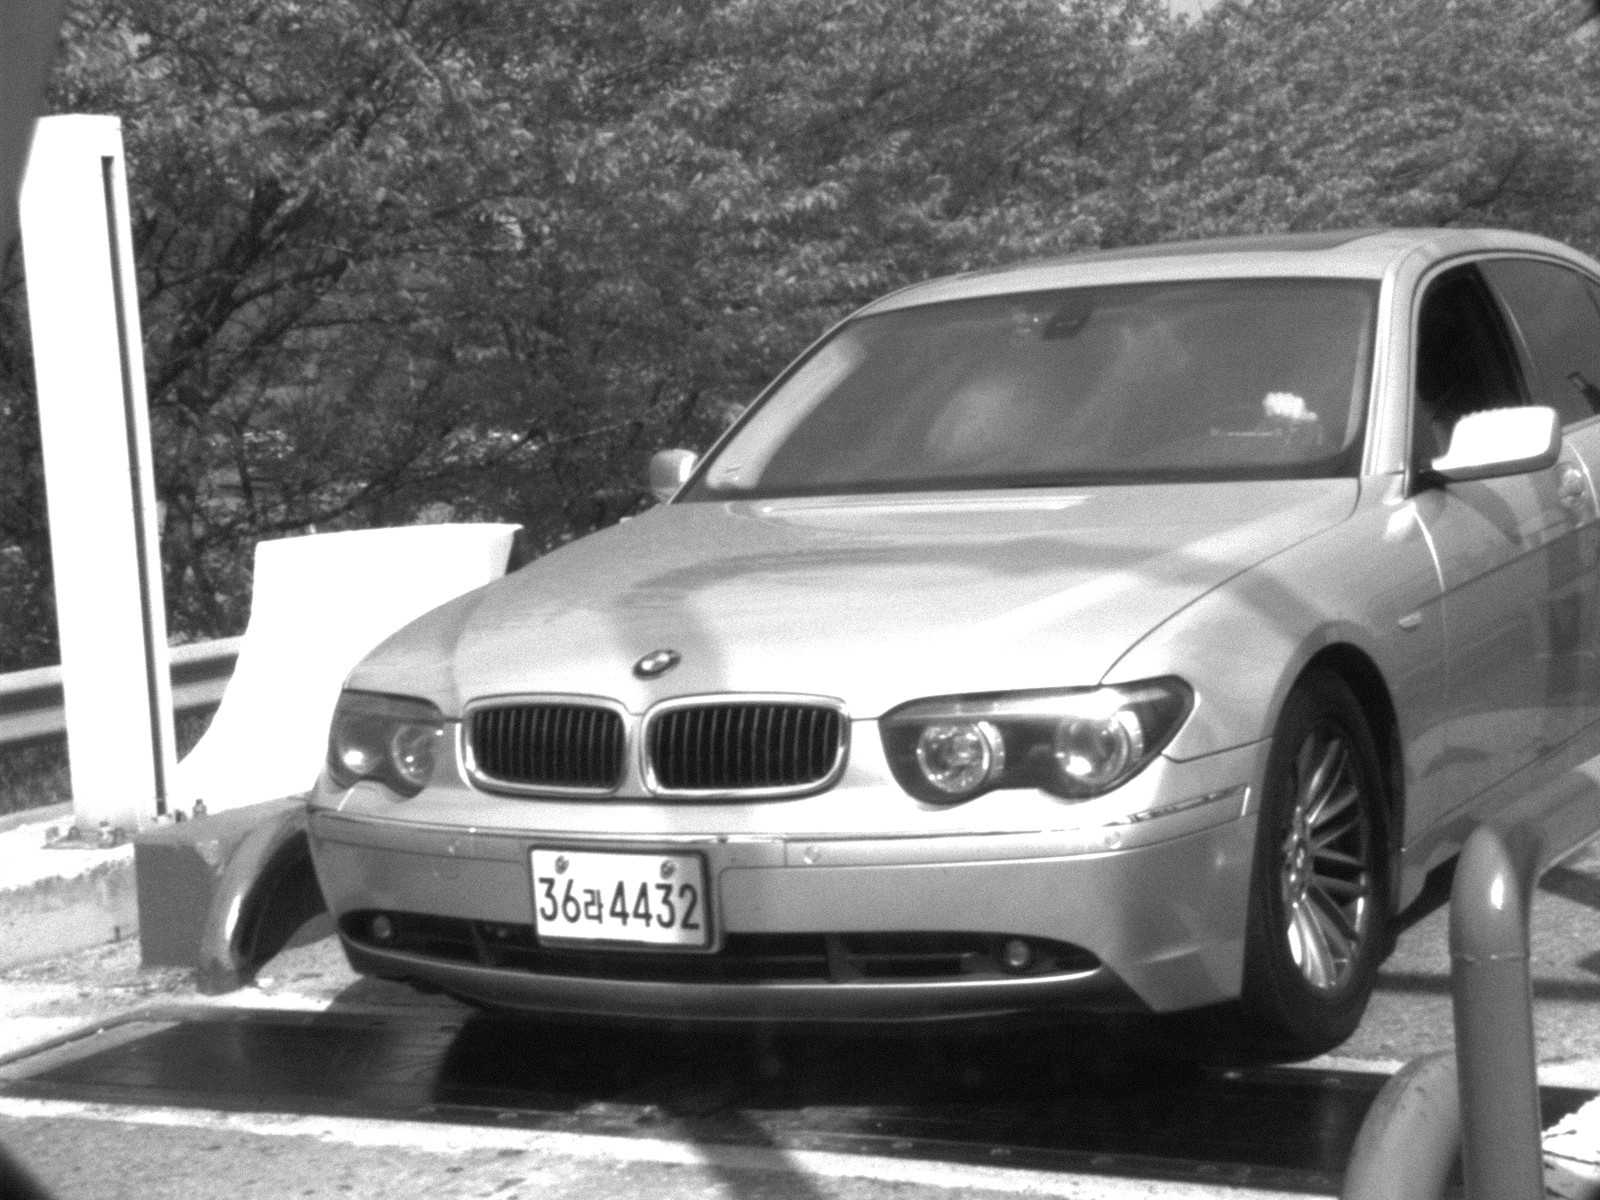car: (297, 222, 1600, 1057)
plate: (524, 845, 724, 952)
